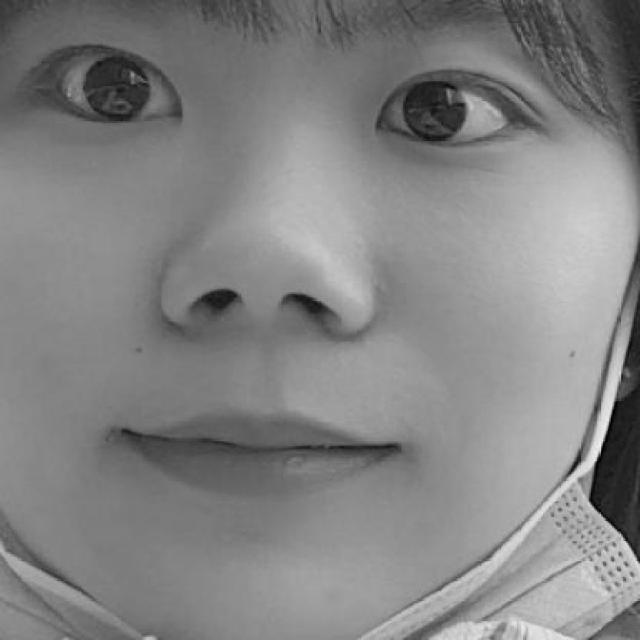happy: (0, 28, 558, 534)
